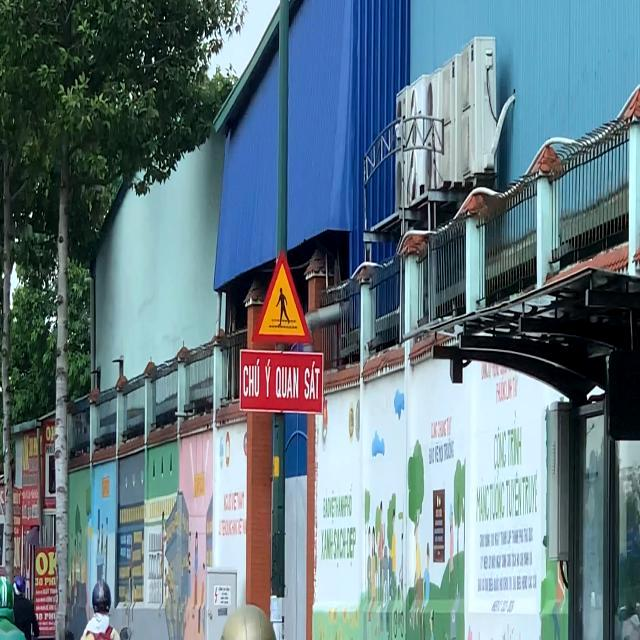Nguoi di bo cat ngang: (250, 248, 312, 344)
